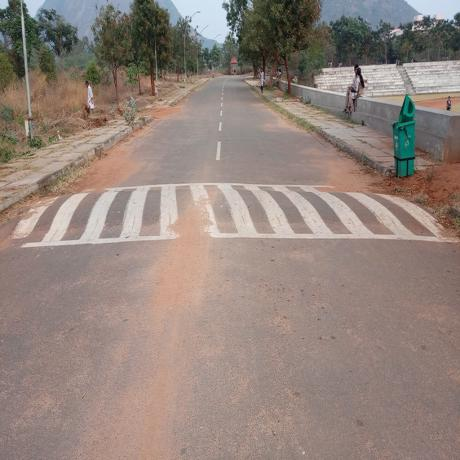Speed Bump: (24, 183, 460, 244)
